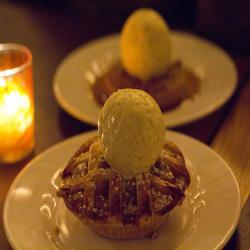apple_pie: (58, 134, 187, 237)
icecream: (93, 88, 173, 182), (114, 10, 178, 80)
